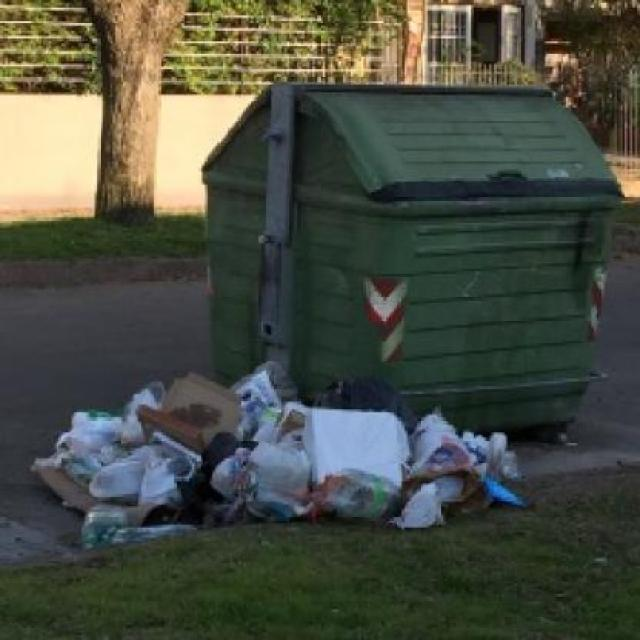garbage: (65, 377, 488, 538)
